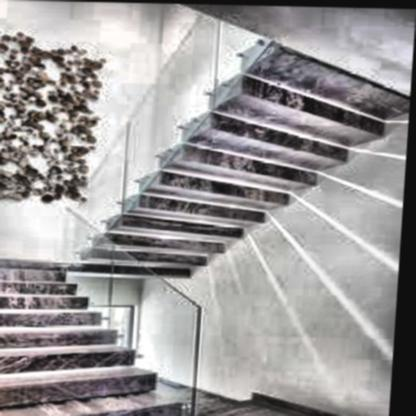stair: (0, 239, 178, 416)
